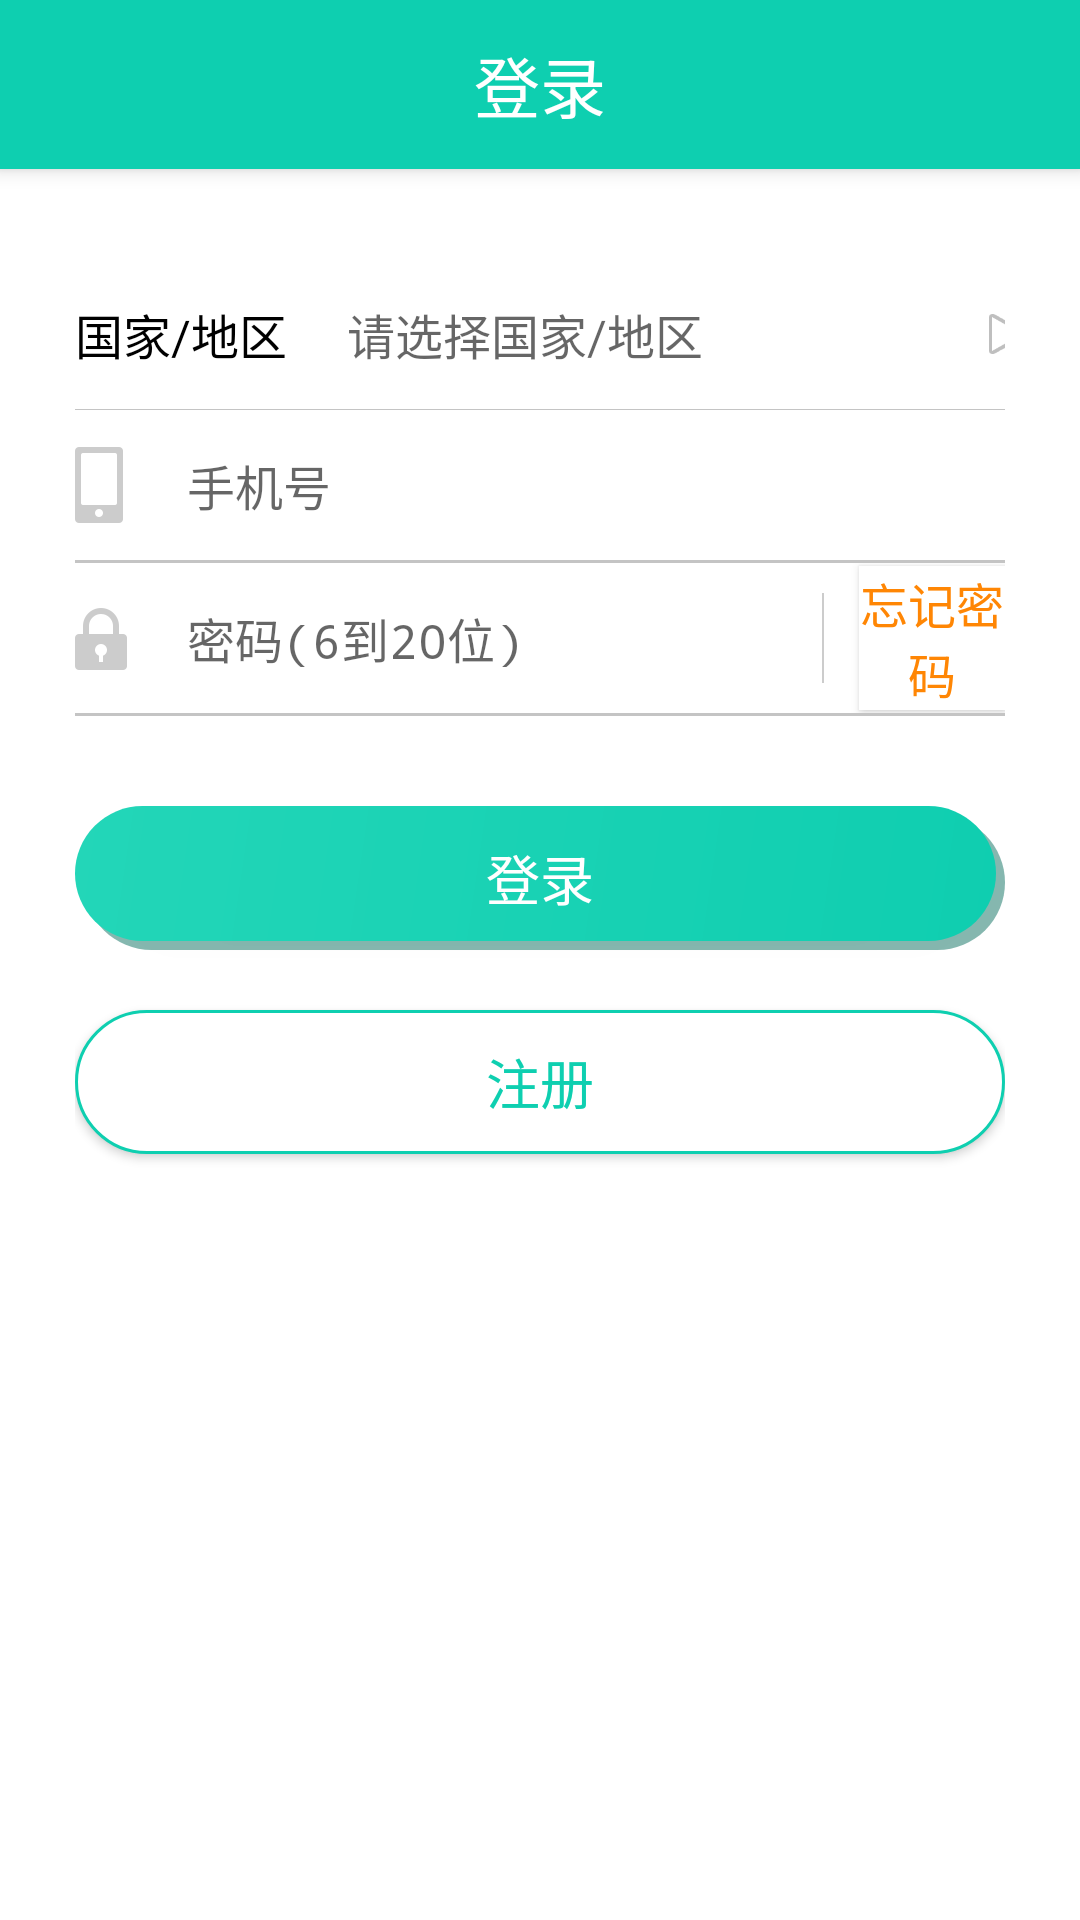

Icon click points for this 1080×1920 phone screenshot, format (x,y):
password: (101,639)
phone: (99,485)
